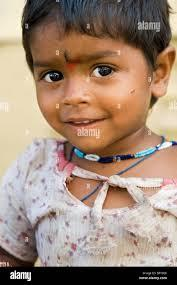Human: (7, 0, 177, 269)
